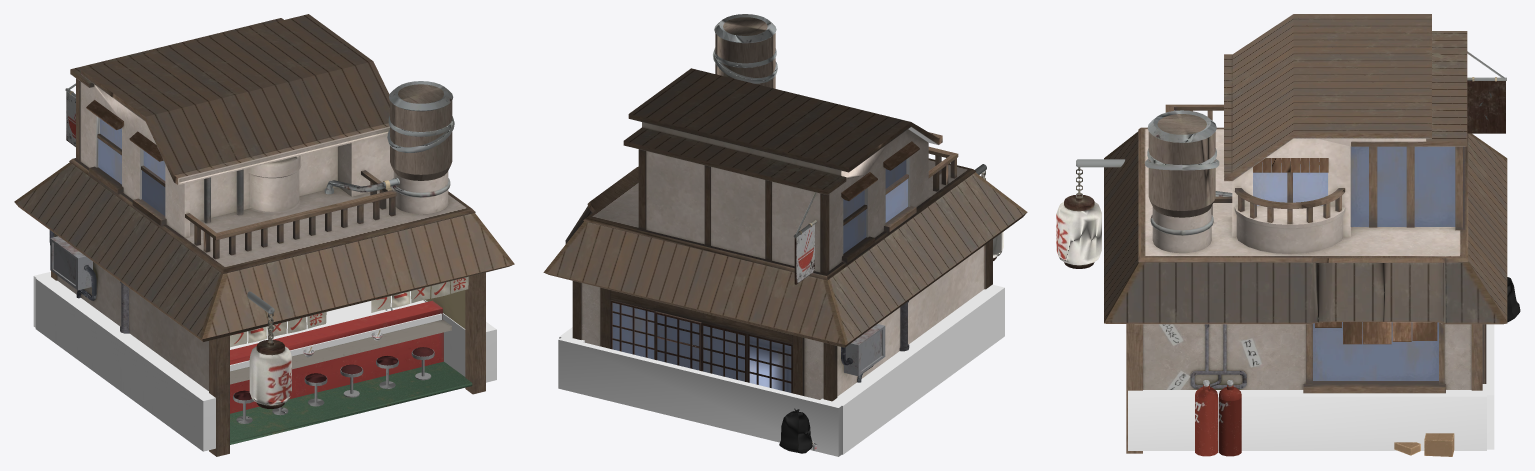
Rendered from ichirakuRamen.glb.
3 views of the same model, side by side, from view 1: azimuth 30°, elevation 25°; view 2: azimuth 150°, elevation 25°; view 3: azimuth 270°, elevation 25° (orthographic). The views are drawn at different scales.
Parts seen in each view (by area): view 1: caja_colision_i; view 2: caja_colision_i; view 3: caja_colision_i.
Boxes of the visible parts, box(x1,y1,x2,y2) form: caja_colision_i: box(14, 14, 514, 456); caja_colision_i: box(543, 14, 1027, 456); caja_colision_i: box(1056, 14, 1520, 456).
Bounding box in the file's own units: 0.4009 × 0.3433 × 0.4651.
8 materials, 4 textured.
